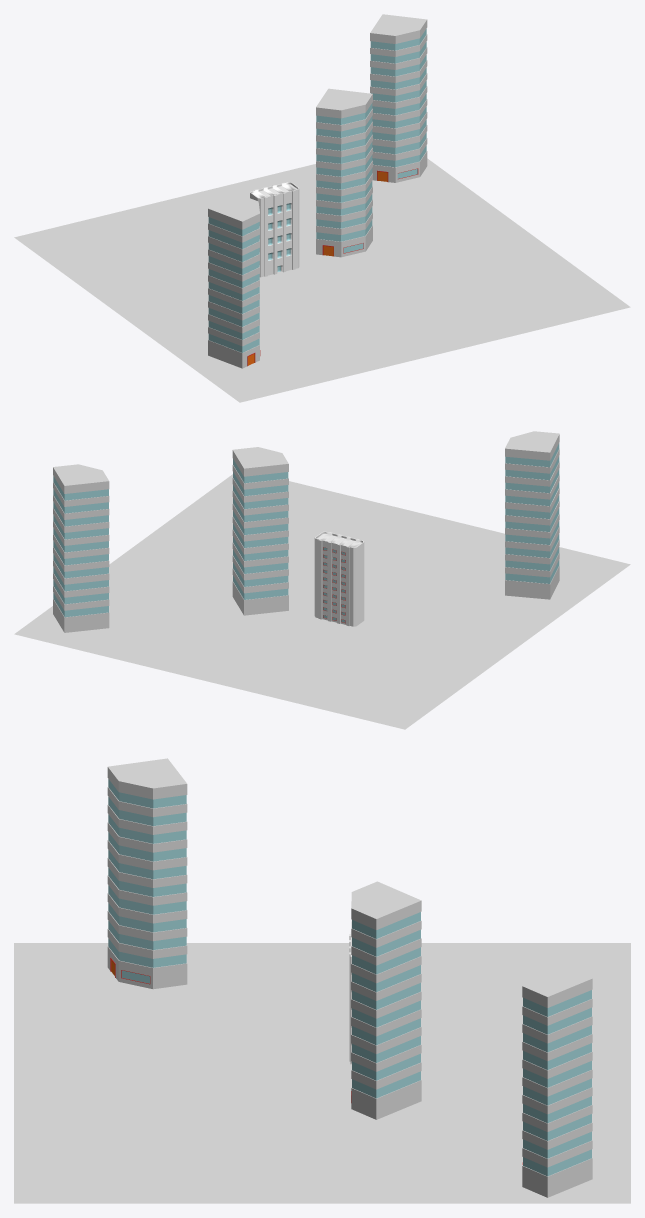
The model's file is test-city.glb.
3 renders of one model, top to bottom at view 1: azimuth 30°, elevation 25°; view 2: azimuth 150°, elevation 25°; view 3: azimuth 270°, elevation 25°, orthographic. The views are drawn at different scales.
Parts seen in each view (by area): view 1: Plane.001, Building 86.005, Building 86.001, Building 86.002, Building 97.002; view 2: Plane.001, Building 86.005, Building 86.001, Building 86.002, Building 97.002; view 3: Plane.001, Building 86.002, Building 86.001, Building 86.005.
Part boxes in pixels (x1,y1,x2,y2): Plane.001: [14, 158, 630, 402]; Building 86.005: [316, 88, 372, 257]; Building 86.001: [370, 14, 427, 182]; Building 86.002: [208, 194, 260, 368]; Building 97.002: [250, 182, 299, 277]; Plane.001: [14, 474, 630, 729]; Building 86.005: [232, 447, 288, 615]; Building 86.001: [53, 464, 109, 632]; Building 86.002: [505, 431, 559, 599]; Building 97.002: [314, 531, 364, 626]; Plane.001: [14, 943, 630, 1203]; Building 86.002: [107, 758, 187, 989]; Building 86.001: [522, 959, 592, 1197]; Building 86.005: [351, 881, 421, 1119].
Size of the model in its own units: 200 by 72.11 by 200.
